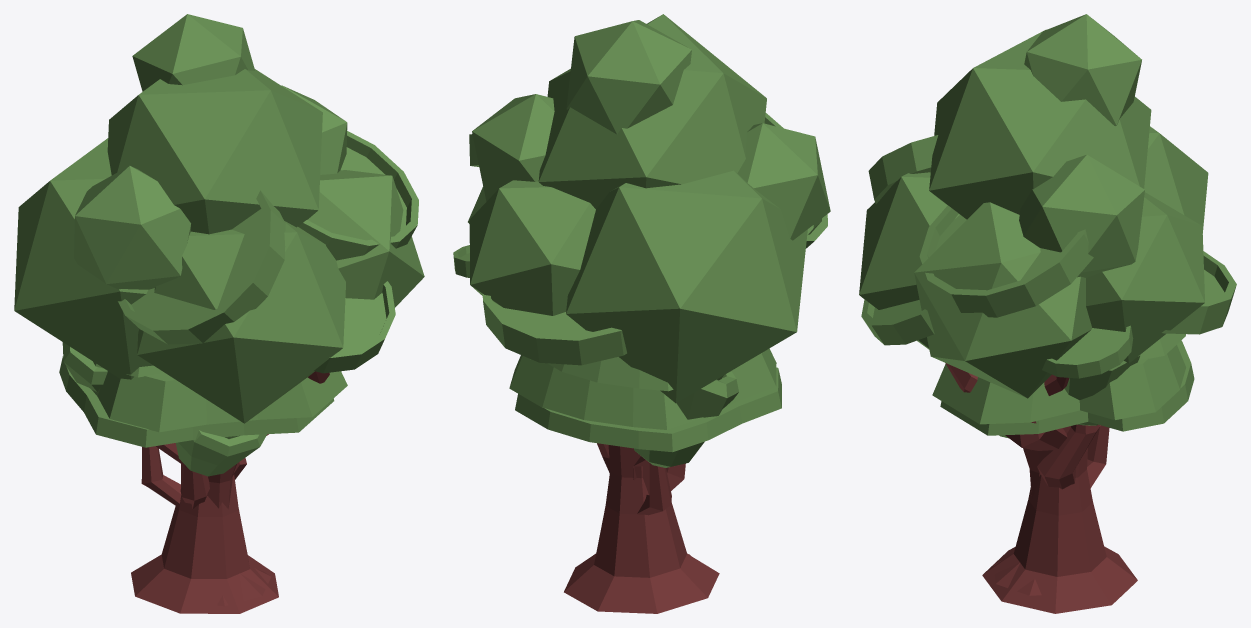
The model's file is trees.gltf.
3 views of the same model, side by side, from view 1: azimuth 30°, elevation 25°; view 2: azimuth 150°, elevation 25°; view 3: azimuth 270°, elevation 25° (orthographic).
Visible parts, largest first — view 1: normieLeaves, plateLeaves, stackLeaves, normieTrunk, roseLeaves, roseTrunk, plateTrunk; view 2: normieLeaves, stackLeaves, normieTrunk, plateLeaves, roseLeaves, roseTrunk; view 3: normieLeaves, plateLeaves, stackLeaves, normieTrunk, roseTrunk, plateTrunk, roseLeaves.
Part boxes in pixels (left/top/right/bottom): normieLeaves: left=14, top=14, right=424, bottom=423; plateLeaves: left=118, top=131, right=418, bottom=373; stackLeaves: left=59, top=356, right=347, bottom=447; normieTrunk: left=131, top=474, right=278, bottom=613; roseLeaves: left=62, top=342, right=266, bottom=476; roseTrunk: left=141, top=446, right=246, bottom=508; plateTrunk: left=207, top=371, right=329, bottom=606; normieLeaves: left=468, top=14, right=830, bottom=403; stackLeaves: left=509, top=348, right=781, bottom=452; normieTrunk: left=564, top=445, right=719, bottom=613; plateLeaves: left=453, top=113, right=827, bottom=365; roseLeaves: left=634, top=372, right=738, bottom=467; roseTrunk: left=597, top=443, right=685, bottom=515; normieLeaves: left=859, top=14, right=1208, bottom=398; plateLeaves: left=861, top=135, right=1236, bottom=378; stackLeaves: left=932, top=333, right=1194, bottom=435; normieTrunk: left=982, top=426, right=1137, bottom=613; roseTrunk: left=1037, top=424, right=1109, bottom=489; plateTrunk: left=945, top=363, right=1069, bottom=595; roseLeaves: left=999, top=354, right=1140, bottom=438.
Size of the model in its own units: 11.42 by 17.49 by 10.6.
